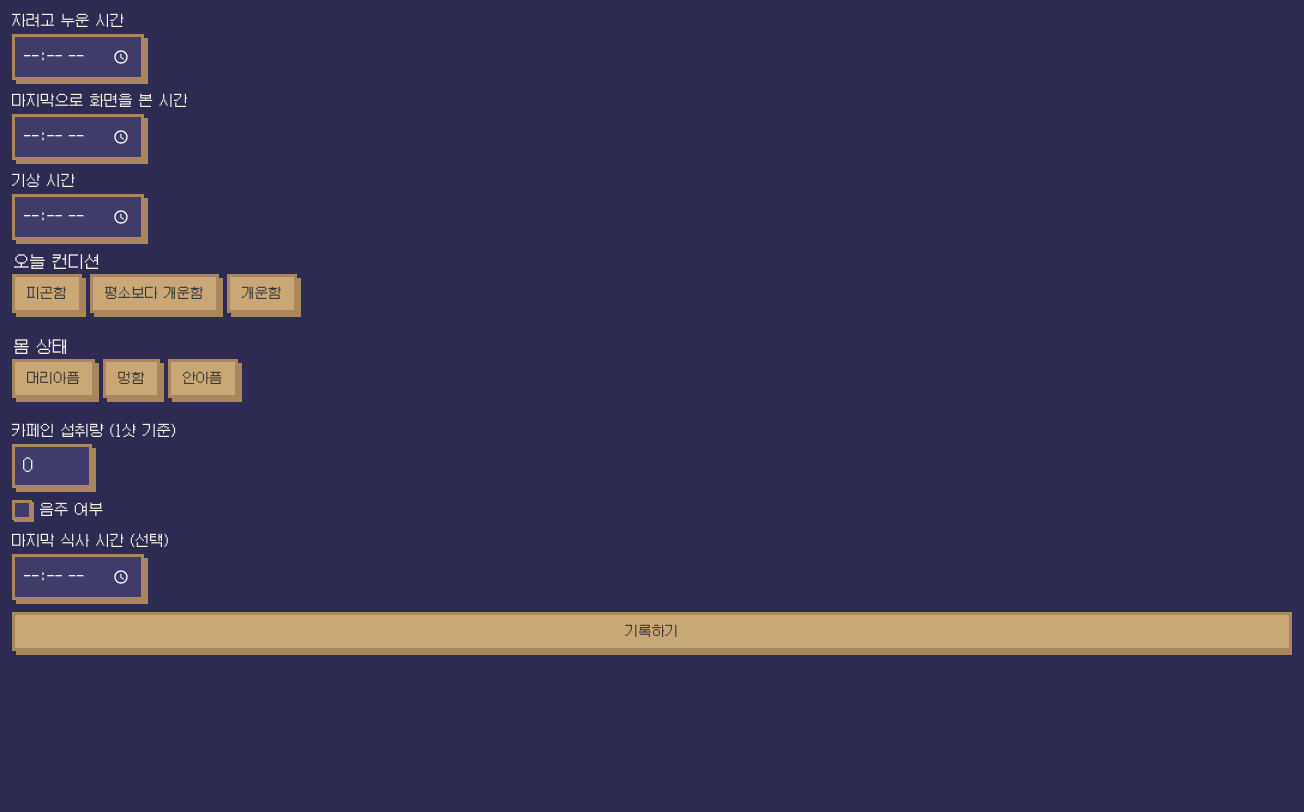
SleepEntryForm › reveals the caffeine time field only once shots are greater than zero
Expected: the field labelled "카페인 섭취 시간 (선택)" is not shown
Replace the text in the number field labelled "카페인 섭취량 (1샷 기준)" with "2": coordinates (52, 466) [12, 444, 92, 488]
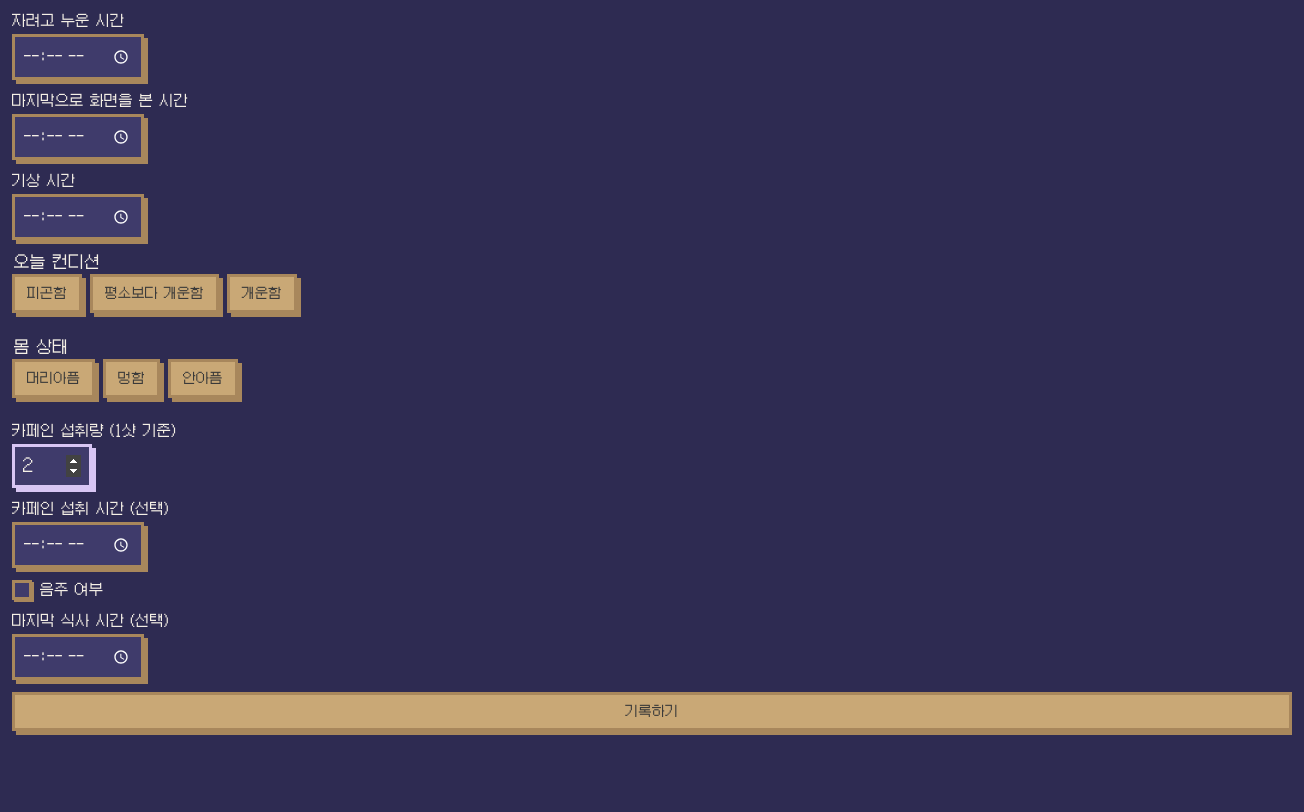
Now the time field labelled "카페인 섭취 시간 (선택)" is shown, box [12, 522, 144, 568]
